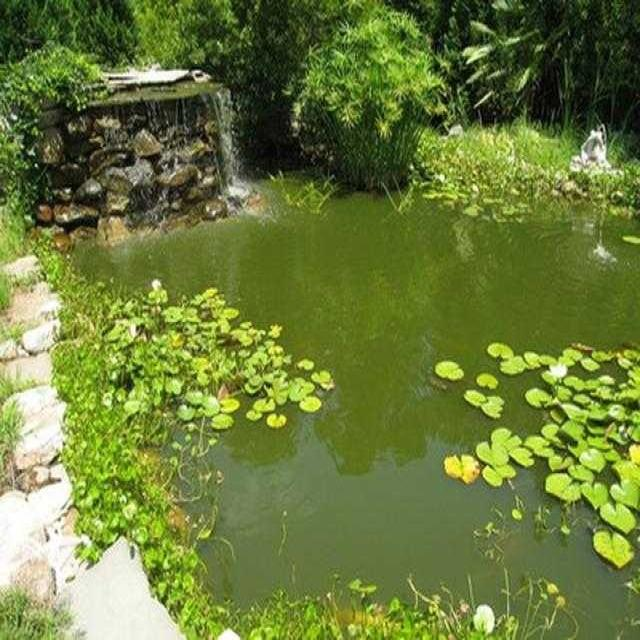Ponds: (1, 69, 640, 640)
